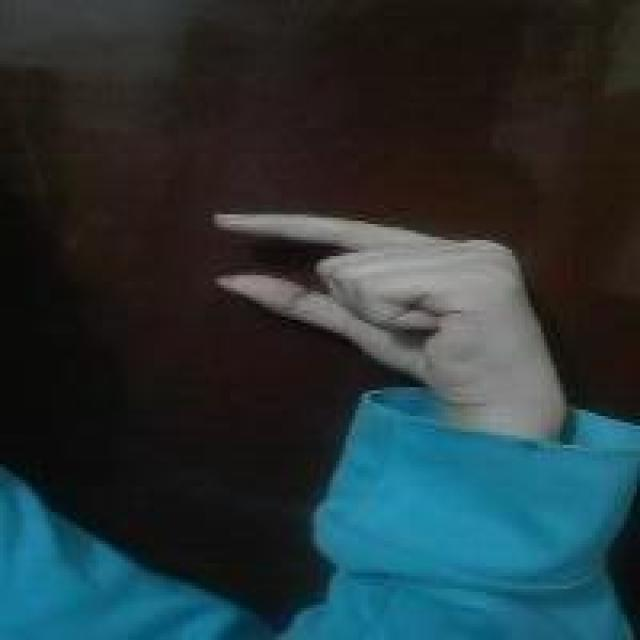G: (210, 204, 542, 398)
